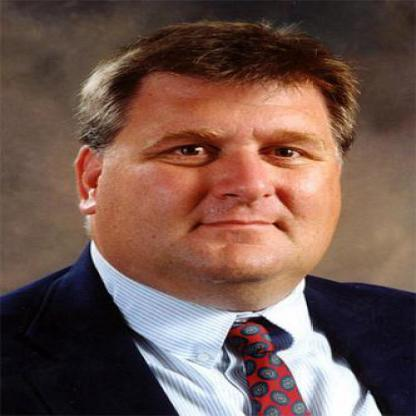face: (99, 27, 361, 295)
